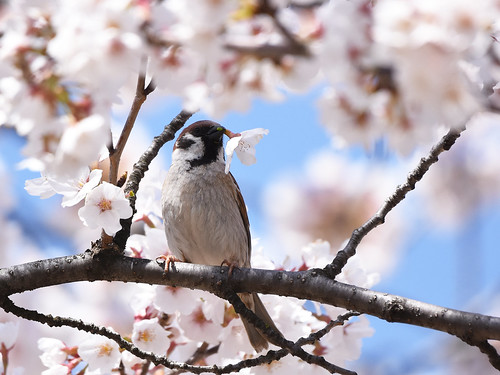animal: (138, 104, 288, 365)
vegetation: (3, 5, 496, 367)
